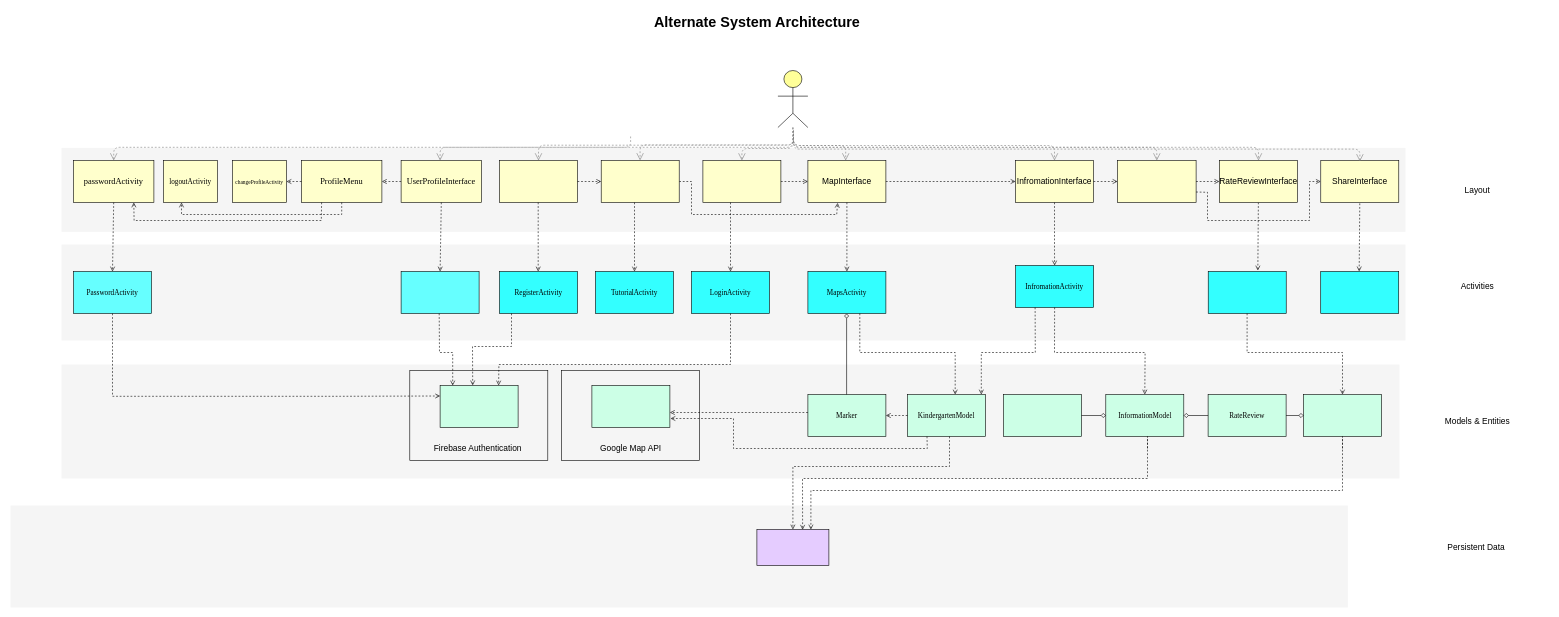
Some shapes in this 1559 by 617 pixel diagram are drawn without their labels. The box of each missing label's shape, as (x1, y1, x2, y2) in pixels:
Firebase Datastore: (756, 529, 829, 566)
informationMenu: (1117, 160, 1196, 202)
KindergartenServices: (1003, 394, 1082, 436)
LoginInterface: (702, 160, 781, 202)
RateReviewActivity: (1208, 271, 1286, 314)
RateReviewModel: (1303, 394, 1382, 436)
RegisterInterface: (499, 160, 578, 202)
ShareActivity: (1320, 271, 1399, 314)
TutorialInterface: (601, 160, 679, 202)
UserProfileActivity: (400, 271, 479, 314)
